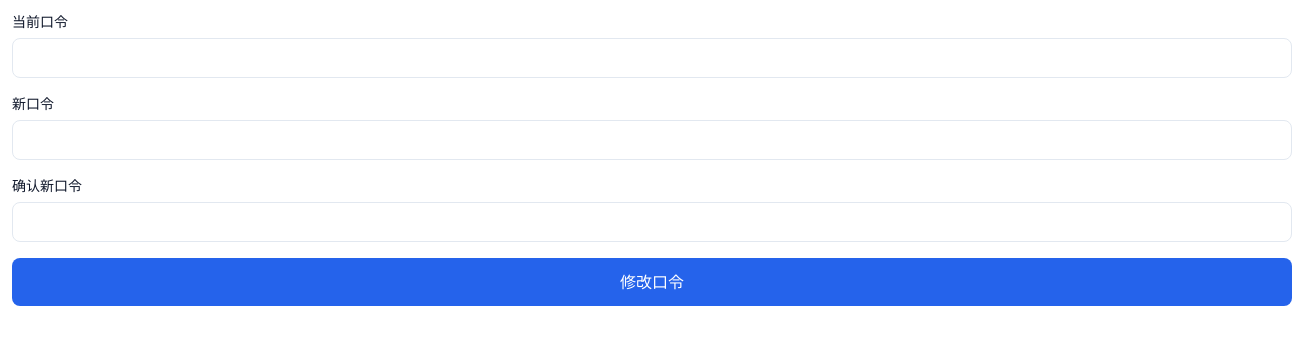
PasswordChangeForm validation › rejects a new password with 与当前口令相同
Type "Local-Account-1" into the password field labelled "当前口令".
click(652, 58); type("Local-Account-1")  # box x1=12 y1=38 x2=1292 y2=78
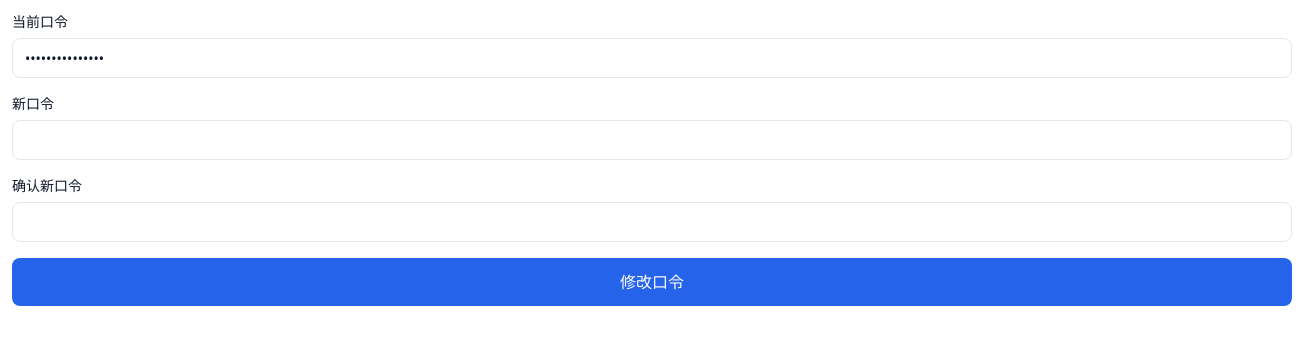
Type "Local-Account-1" into the password field labelled "新口令".
click(652, 140); type("Local-Account-1")  # box x1=12 y1=120 x2=1292 y2=160
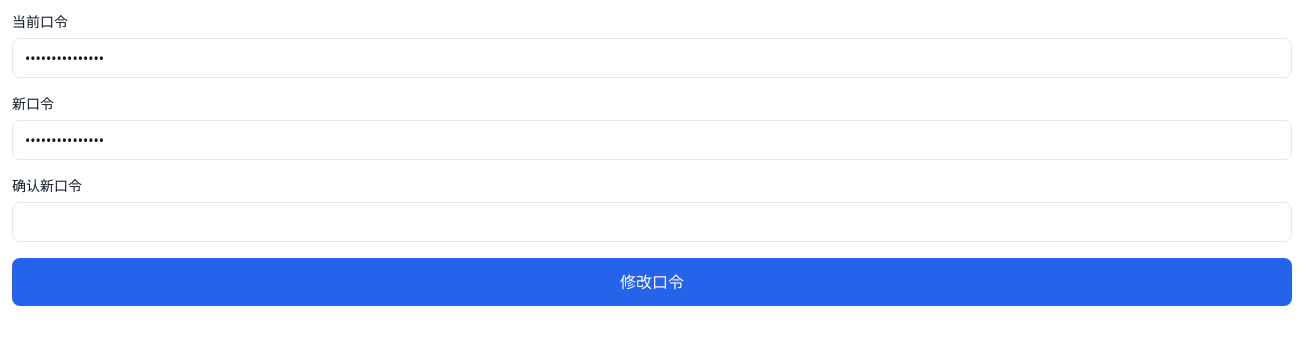
Type "Local-Account-1" into the password field labelled "确认新口令".
click(652, 222); type("Local-Account-1")  # box x1=12 y1=202 x2=1292 y2=242
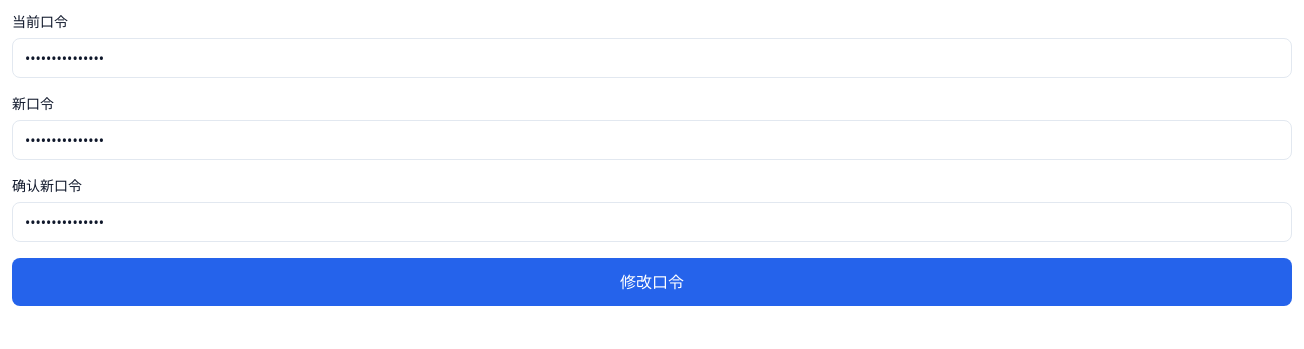
Click the button "修改口令".
click(652, 282)  # box x1=12 y1=258 x2=1292 y2=306
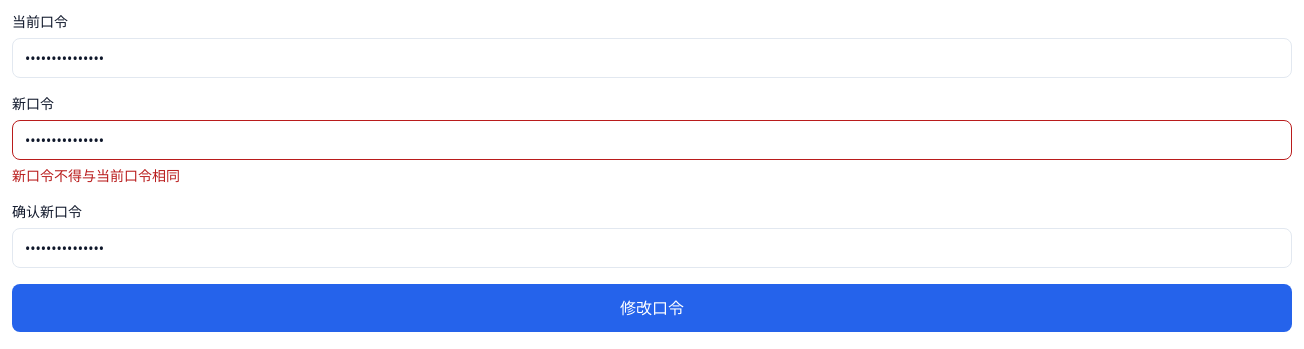
Expected: the text "新口令不得与当前口令相同" is shown, x1=12 y1=166 x2=180 y2=185
